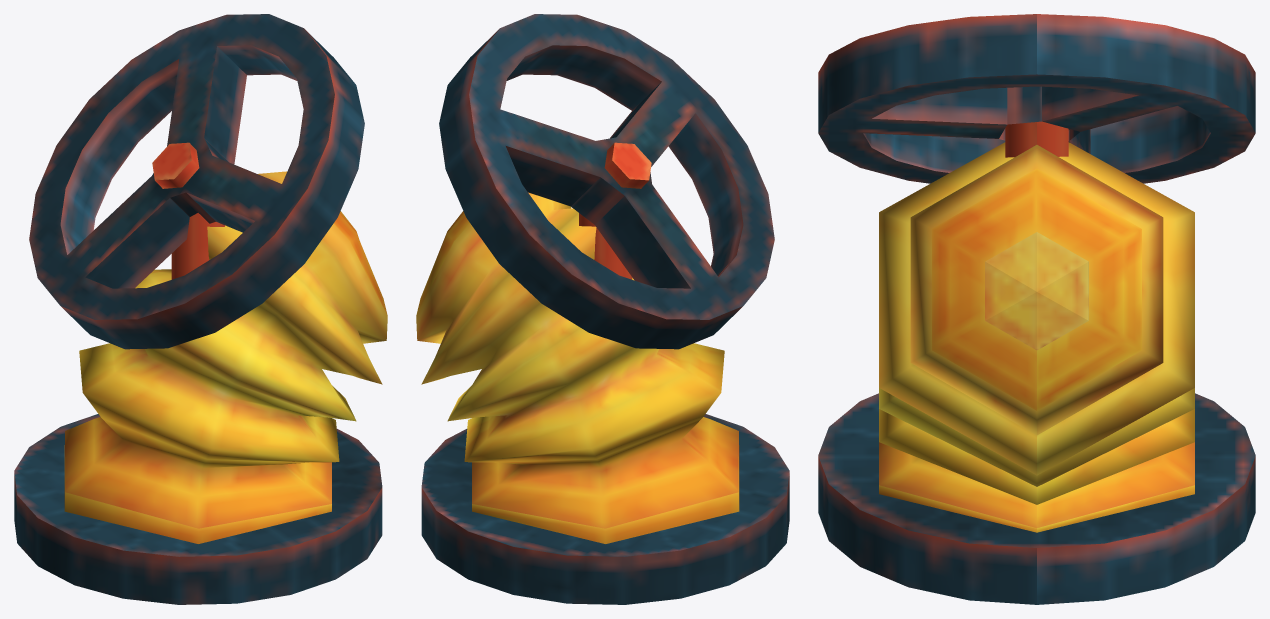
The model's file is pump@destroyed.FBX.
3 views of the same model, side by side, from view 1: azimuth 30°, elevation 25°; view 2: azimuth 150°, elevation 25°; view 3: azimuth 270°, elevation 25° (orthographic). The views are drawn at different scales.
Parts seen in each view (by area): view 1: Cylinder002, Hose001, Cylinder001, Cylinder004, Cylinder003; view 2: Cylinder002, Hose001, Cylinder001, Cylinder004, Cylinder003; view 3: Hose001, Cylinder002, Cylinder001, Cylinder003.
Part boxes in pixels (left/top/right/bottom): Cylinder002: left=29, top=14, right=364, bottom=349; Hose001: left=64, top=171, right=387, bottom=543; Cylinder001: left=14, top=414, right=382, bottom=604; Cylinder004: left=152, top=142, right=199, bottom=188; Cylinder003: left=171, top=213, right=224, bottom=279; Cylinder002: left=439, top=14, right=774, bottom=349; Hose001: left=416, top=192, right=739, bottom=543; Cylinder001: left=421, top=414, right=789, bottom=604; Cylinder004: left=604, top=142, right=651, bottom=188; Cylinder003: left=579, top=213, right=632, bottom=279; Hose001: left=879, top=142, right=1194, bottom=532; Cylinder002: left=818, top=14, right=1255, bottom=183; Cylinder001: left=818, top=393, right=1255, bottom=604; Cylinder003: left=1005, top=121, right=1068, bottom=157.
Bounding box in the file's own units: 101 × 141 × 100.
